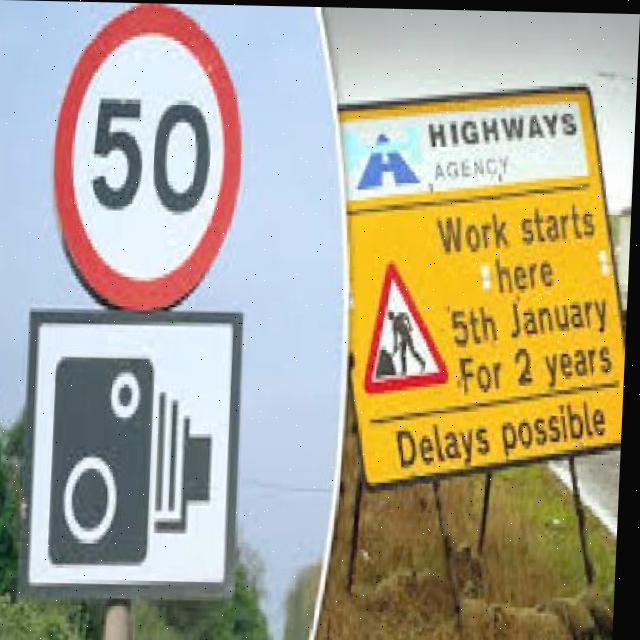Speed limit 50: (46, 2, 253, 313)
